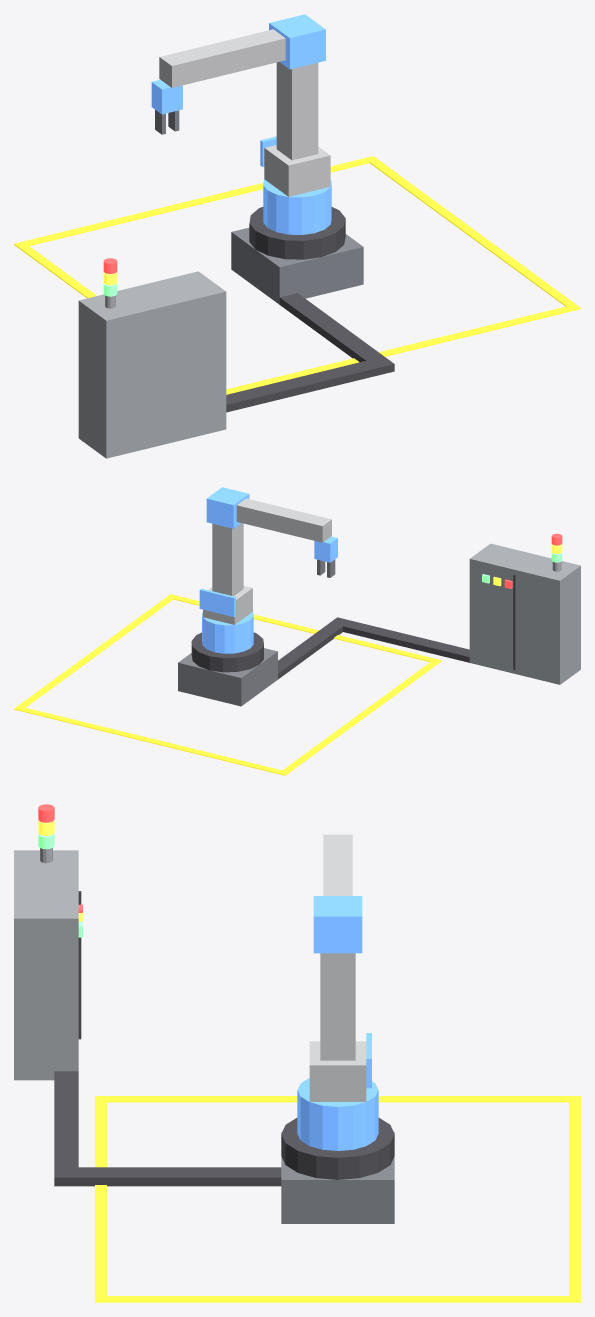
File: wing-robot-hall-plc-techs.glb
3 views of the same model, one above another, from view 1: azimuth 30°, elevation 25°; view 2: azimuth 150°, elevation 25°; view 3: azimuth 270°, elevation 25° (orthographic). The views are drawn at different scales.
Parts seen in each view (by area): view 1: Robot · reference 3-joint arm; view 2: Robot · reference 3-joint arm; view 3: Robot · reference 3-joint arm.
Part boxes in pixels (x1,y1,x2,y2): Robot · reference 3-joint arm: [14, 14, 580, 458]; Robot · reference 3-joint arm: [14, 487, 580, 775]; Robot · reference 3-joint arm: [14, 804, 580, 1302].
Size of the model in its own units: 8.5 by 4 by 7.
